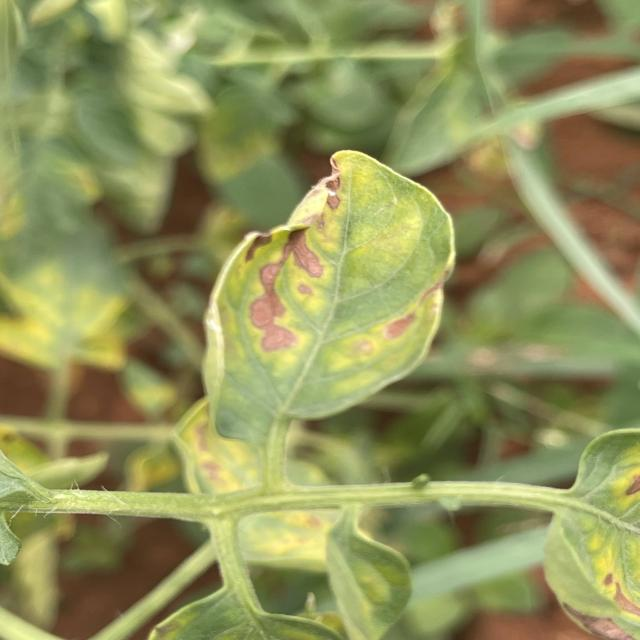tomato_early blight: (203, 150, 458, 442), (161, 398, 372, 568), (544, 421, 640, 640), (319, 503, 419, 640)
